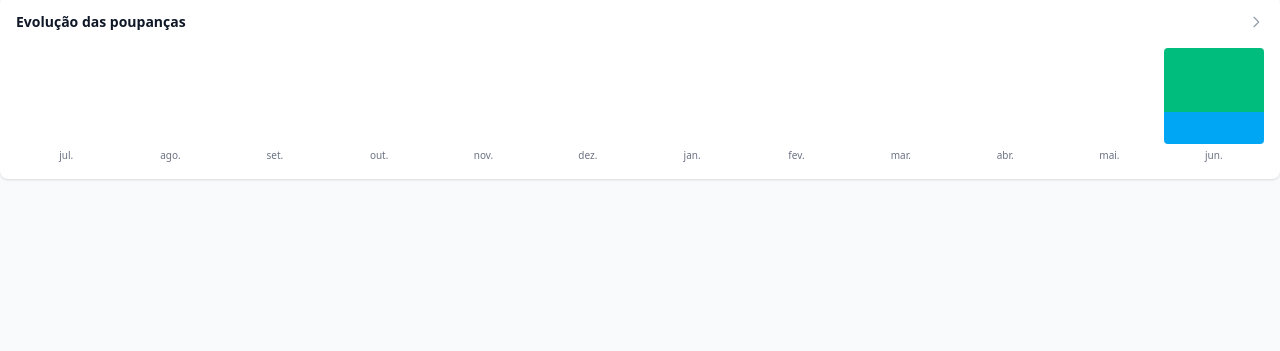
Test: SavingsTrend — month readout › lists one row per active pot in registry order with matching swatch colours
This screenshot has width=1280, height=351.
// When I tap the June column
Click the 12th button with test id "trend-column" at (1214, 96), box [1164,48,1264,144]
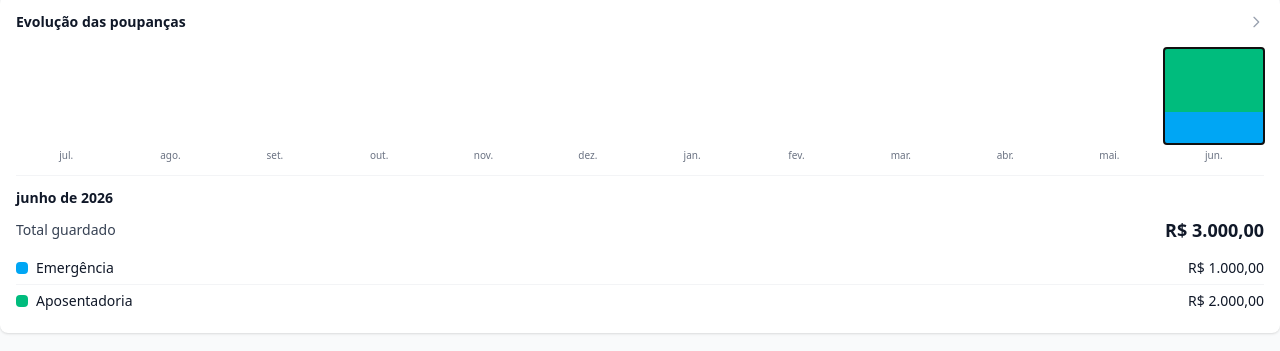
Expected: the number of list items with test id "readout-row" is 2, [16,252,1264,285]; [16,291,1264,310]
Expected: the list item with test id "readout-row" shows "Emergência", [36,258,114,277]
Expected: the list item with test id "readout-row" shows "R$ 1.000,00", [1188,258,1264,277]
